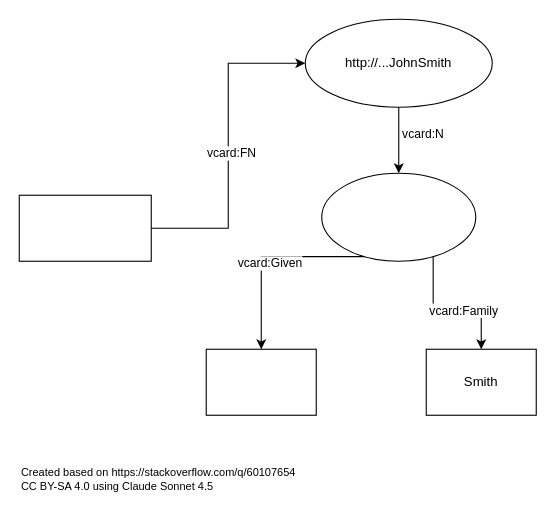
The diagram is 556 pixels wide and 523 high, and some of its shapes have lost their labels. Each missing label, with the centre of its shape:
"John" belongs at [260,381].
"John Smith" belongs at [84,227].
